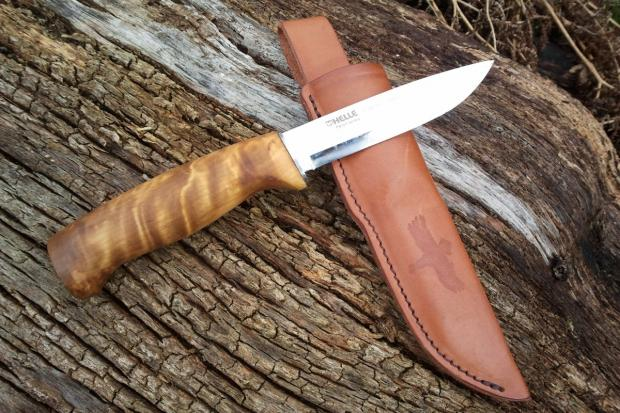knife: (236, 50, 507, 187)
